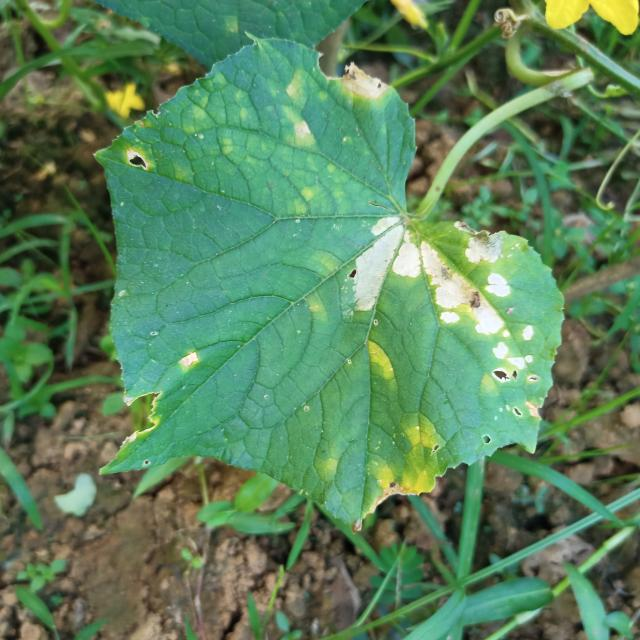disease_cucumber: (349, 212, 543, 401), (358, 411, 450, 503), (279, 73, 320, 151), (358, 337, 399, 387)
